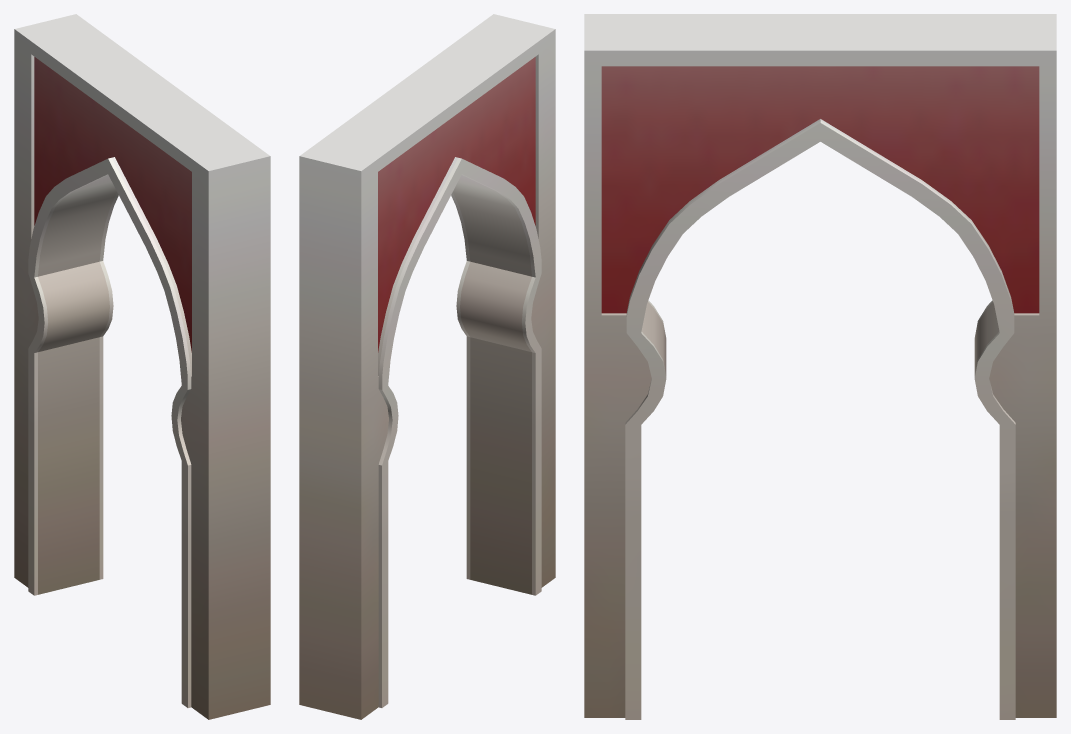
The model's file is M_Arch_04.fbx.
3 renders of one model, left to right at view 1: azimuth 30°, elevation 25°; view 2: azimuth 150°, elevation 25°; view 3: azimuth 270°, elevation 25°, orthographic. The views are drawn at different scales.
Parts seen in each view (by area): view 1: M_Arch_04; view 2: M_Arch_04; view 3: M_Arch_04.
Boxes of the visible parts, box(x1,y1,x2,y2) form: M_Arch_04: box(14, 14, 270, 719); M_Arch_04: box(299, 14, 555, 719); M_Arch_04: box(584, 14, 1056, 719).
Bounding box in the file's own units: 167 × 1273 × 816.
1 material, 1 textured.
